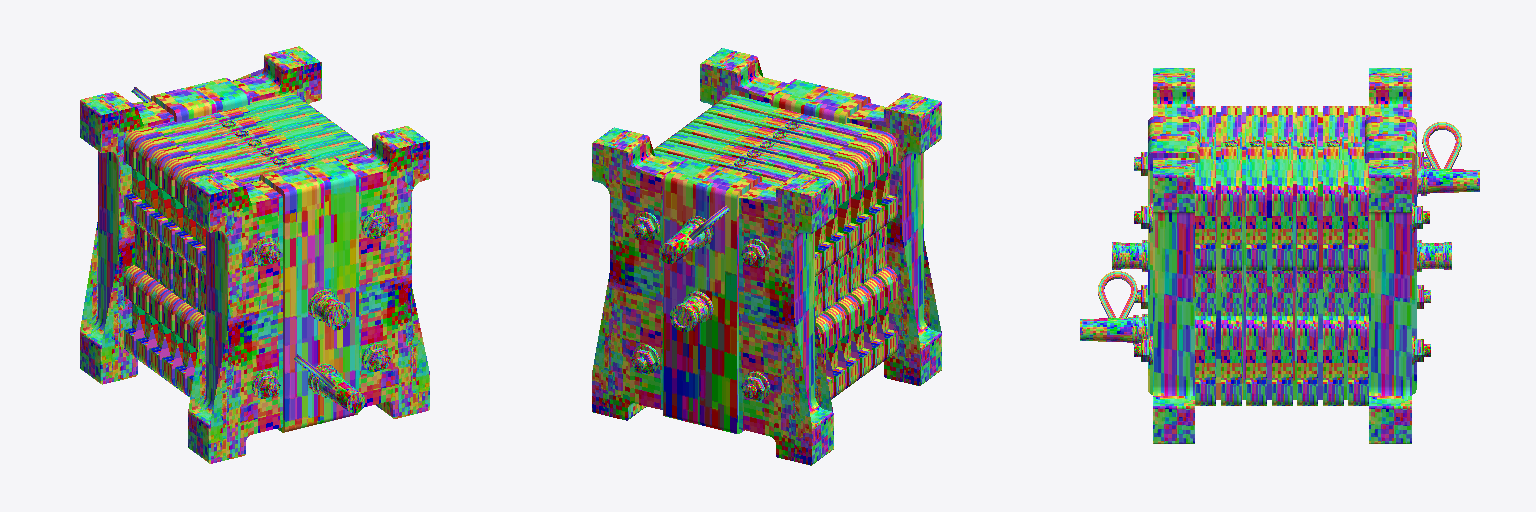
3 views of the same model, side by side, from view 1: azimuth 30°, elevation 25°; view 2: azimuth 150°, elevation 25°; view 3: azimuth 270°, elevation 25° (orthographic).
Visible parts, largest first — view 1: group2 polySurface3, group2 pCube5, polySurface2 group2, group1 polySurface3, polySurface11, polySurface10, polySurface9, polySurface12, polySurface8, polySurface2 group1, polySurface13, group1 pCube5 (+2 smaller); view 2: group1 polySurface3, group1 pCube5, polySurface2 group1, group2 polySurface3, polySurface12, polySurface11, polySurface13, polySurface14, polySurface10, polySurface2 group2, polySurface9, group2 pCube5 (+3 smaller); view 3: polySurface2 group1, polySurface2 group2, pCube6, polySurface9, polySurface10, polySurface11, polySurface12, polySurface13, polySurface8, polySurface14, group1 pCube5, group2 pCube5 (+8 smaller).
Boxes of the visible parts, <box> form: group2 polySurface3: <box>188,171,282,463</box>; group2 pCube5: <box>259,157,358,432</box>; polySurface2 group2: <box>340,126,429,418</box>; group1 polySurface3: <box>80,91,173,384</box>; polySurface11: <box>162,121,344,386</box>; polySurface10: <box>149,111,330,377</box>; polySurface9: <box>136,102,318,368</box>; polySurface12: <box>175,130,356,396</box>; polySurface8: <box>124,93,306,358</box>; polySurface2 group1: <box>233,46,321,103</box>; polySurface13: <box>187,140,368,396</box>; group1 pCube5: <box>151,78,249,121</box>; group1 polySurface3: <box>739,172,833,465</box>; group1 pCube5: <box>663,159,761,433</box>; polySurface2 group1: <box>592,127,679,420</box>; group2 polySurface3: <box>847,93,941,385</box>; polySurface12: <box>690,113,872,380</box>; polySurface11: <box>678,122,859,388</box>; polySurface13: <box>702,104,884,369</box>; polySurface14: <box>716,94,897,361</box>; polySurface10: <box>664,132,846,397</box>; polySurface2 group2: <box>700,48,788,105</box>; polySurface9: <box>653,141,833,399</box>; group2 pCube5: <box>771,79,870,123</box>; polySurface2 group1: <box>1369,158,1411,443</box>; polySurface2 group2: <box>1153,158,1194,443</box>; pCube6: <box>1216,112,1347,399</box>; polySurface9: <box>1323,106,1343,405</box>; polySurface10: <box>1297,106,1317,405</box>; polySurface11: <box>1272,106,1292,405</box>; polySurface12: <box>1246,106,1266,405</box>; polySurface13: <box>1221,106,1241,405</box>; polySurface8: <box>1348,106,1368,405</box>; polySurface14: <box>1195,106,1215,405</box>; group1 pCube5: <box>1365,117,1416,394</box>; group2 pCube5: <box>1148,117,1199,394</box>.
Bounding box in the file's own units: 6 × 7 × 9.41.
1 materials, 1 textured.